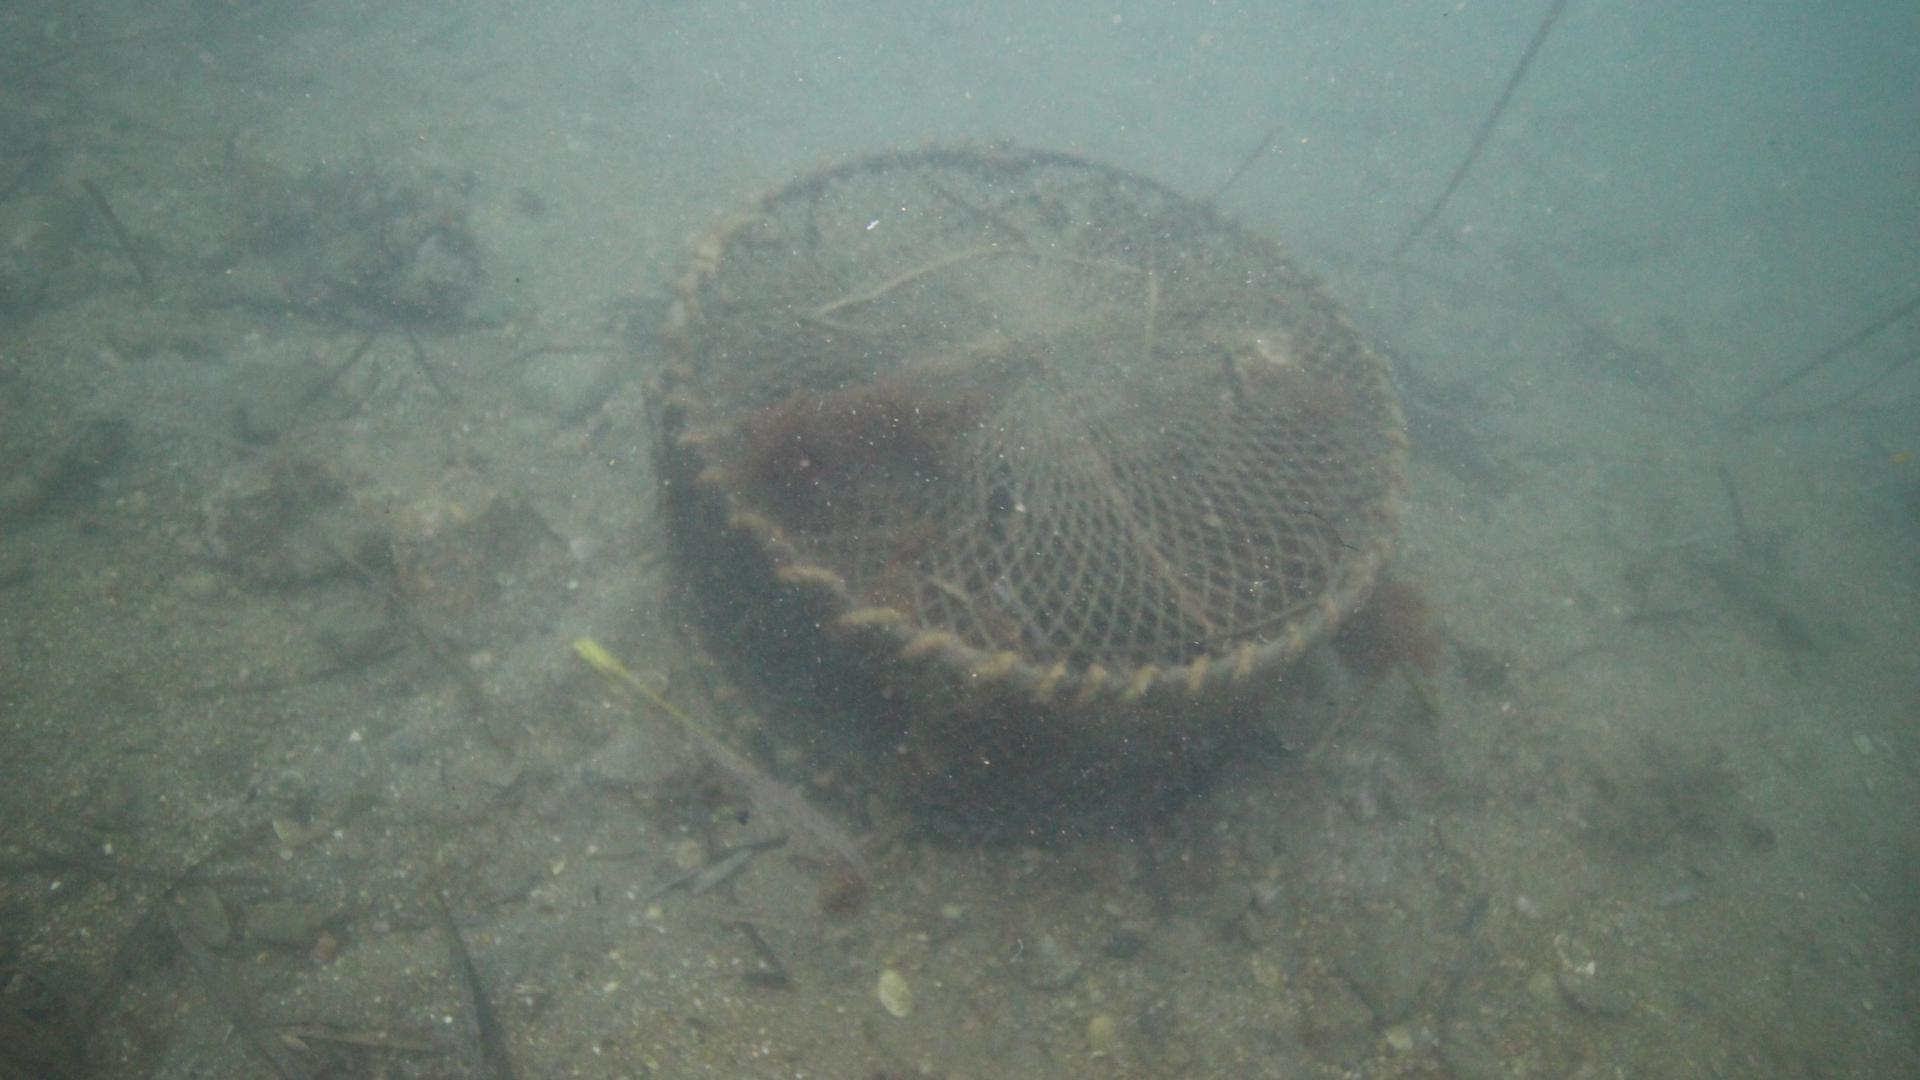circular fish trap: (647, 133, 1410, 837)
